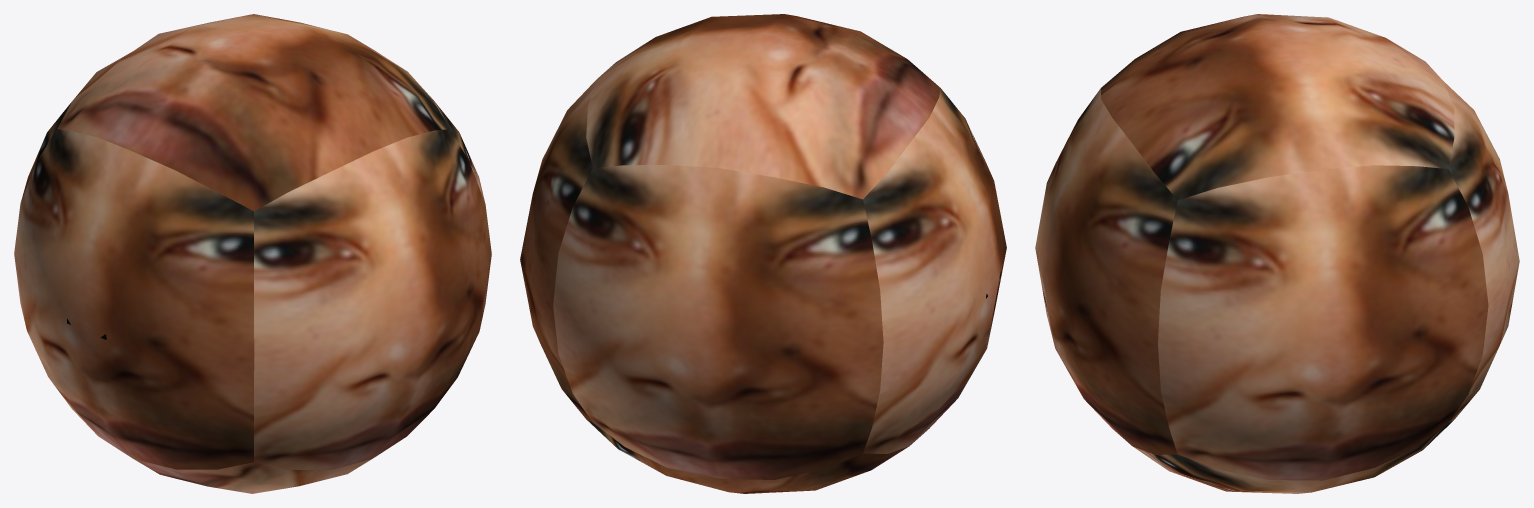
3 renders of one model, left to right at view 1: azimuth 30°, elevation 25°; view 2: azimuth 150°, elevation 25°; view 3: azimuth 270°, elevation 25°, orthographic.
Parts seen in each view (by area): view 1: skfb_offset; view 2: skfb_offset; view 3: skfb_offset.
Part boxes in pixels (x1,y1,x2,y2): skfb_offset: (14, 14, 491, 493); skfb_offset: (520, 14, 1006, 493); skfb_offset: (1035, 14, 1519, 493).
Size of what is drawn, in the model's own units: 17 by 17.04 by 17.
Materials: 3 (1 with a texture image).
